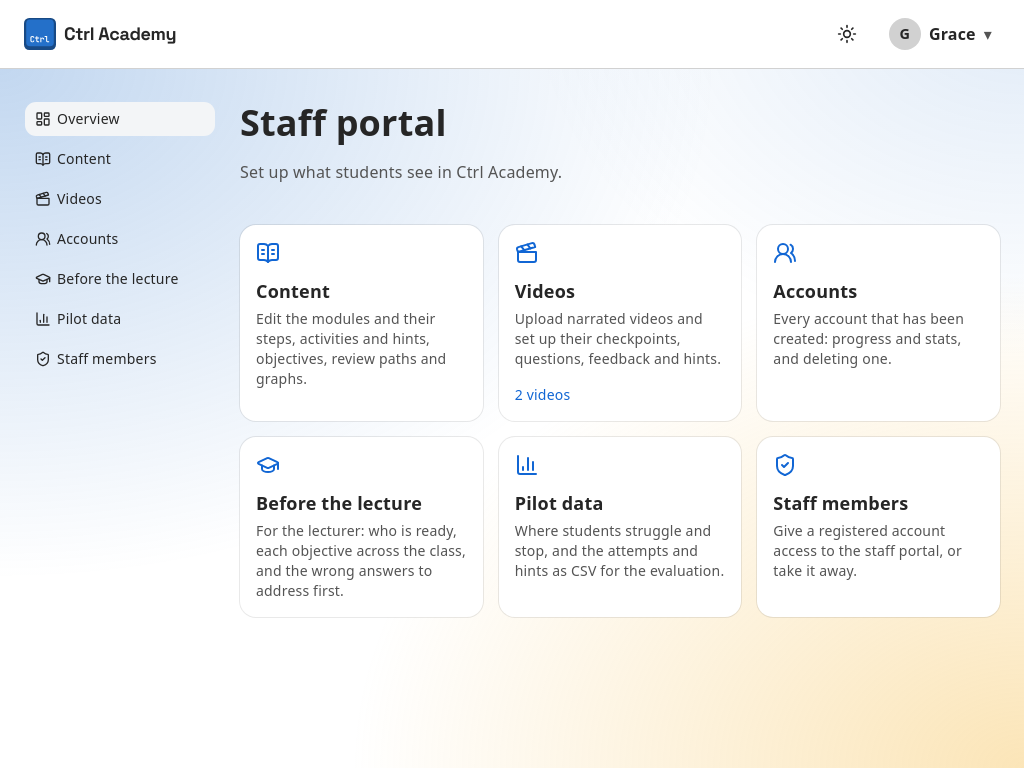
Test case: staff portal › goes from the overview to the videos page and back with its own menu
What coordinates should you click on to do the following:
click the 2nd link "Videos"
I would click on:
 (545, 291)
Its box is [515,279,575,303].
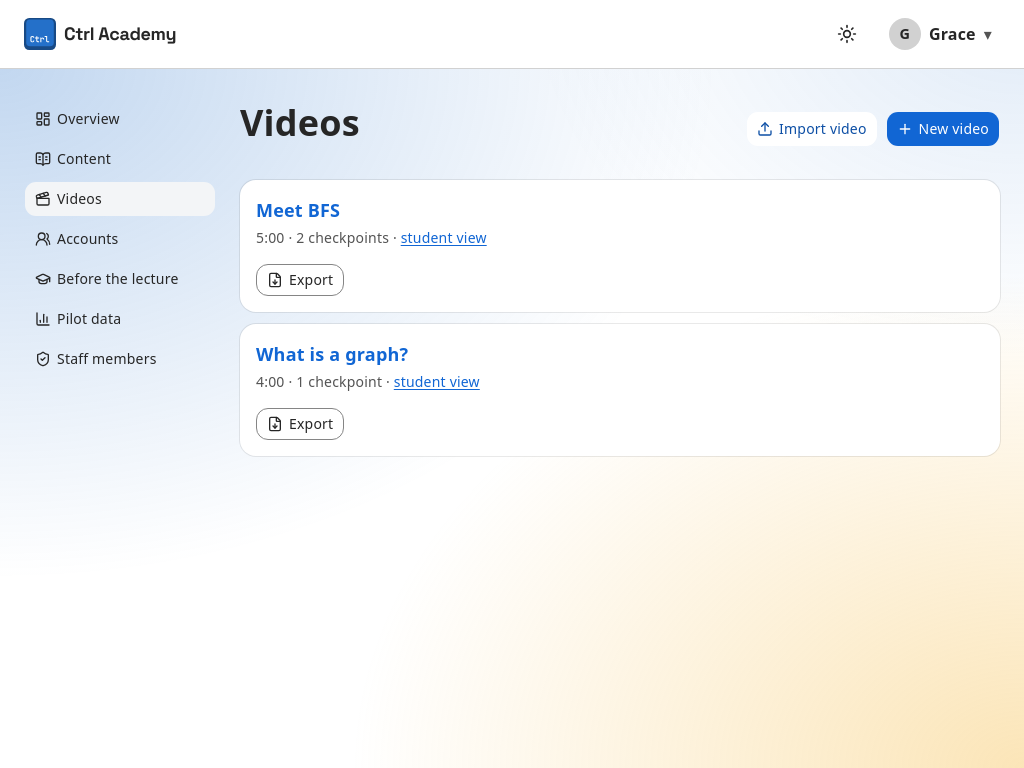
Expected: the heading "Videos" is shown, [240,101,360,144]
Now the link "Meet BFS" is shown, box [256,198,340,222]
What coordinates should you click on to do the following:
click the link "Overview"
I would click on:
 (77, 118)
Its box is [35,109,120,128].
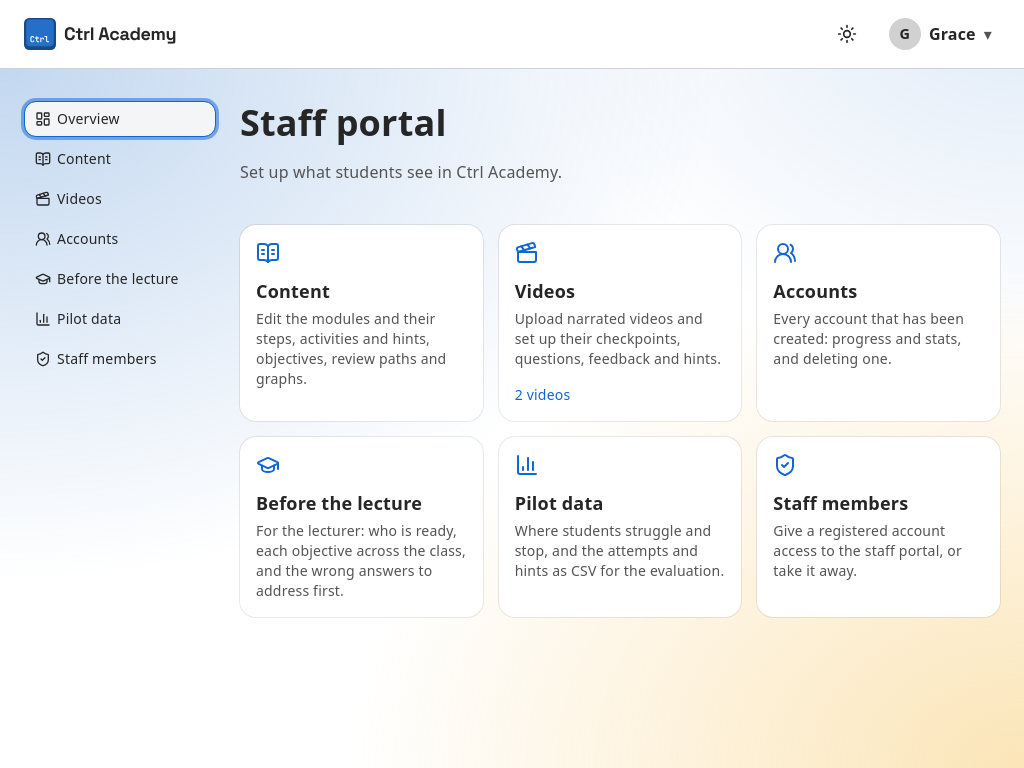
Now the heading "Staff portal" is shown, box [240,98,447,147]
